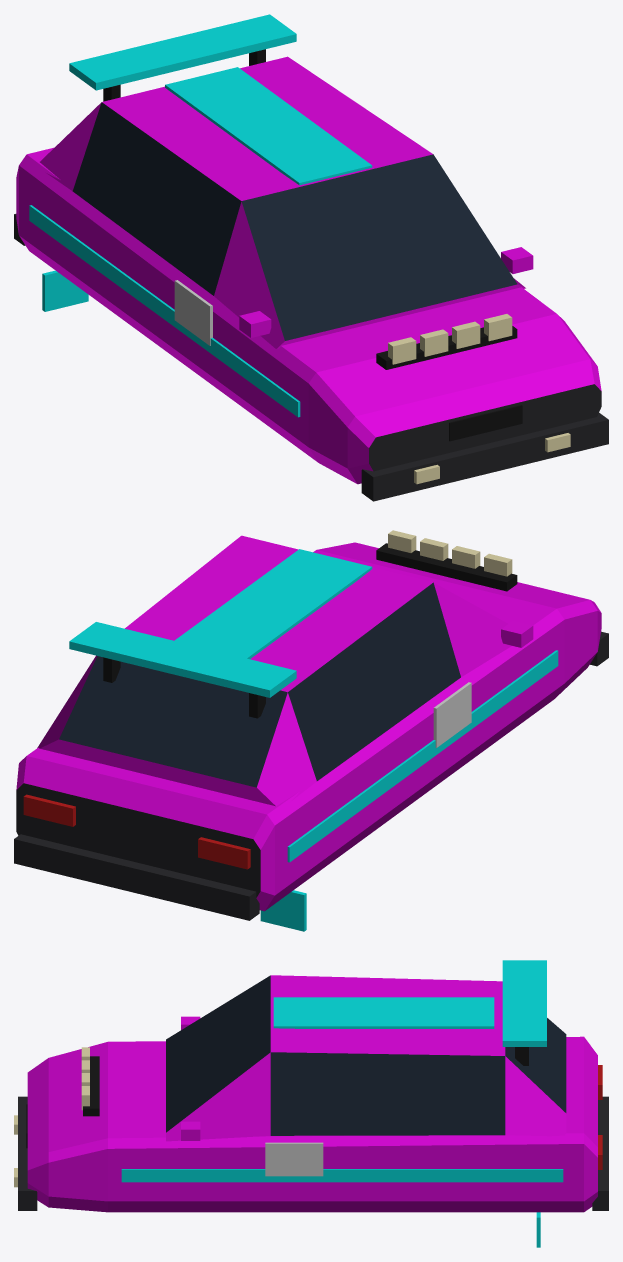
The model's file is car_rally.glb.
3 views of the same model, one above another, from view 1: azimuth 30°, elevation 25°; view 2: azimuth 150°, elevation 25°; view 3: azimuth 270°, elevation 25° (orthographic). The views are drawn at different scales.
Parts seen in each view (by area): view 1: car_rally_body; view 2: car_rally_body; view 3: car_rally_body.
Boxes of the visible parts, x1=… form: car_rally_body: x1=14, y1=14, x2=608, y2=501; car_rally_body: x1=14, y1=530, x2=608, y2=931; car_rally_body: x1=14, y1=960, x2=608, y2=1247.
Bounding box in the file's own units: 1.94 × 1.56 × 4.31.
